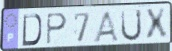7: (73, 12, 91, 44)
A: (92, 10, 121, 43)
D: (21, 13, 43, 48)
P: (46, 12, 69, 46)
U: (120, 8, 143, 43)
X: (144, 7, 169, 42)
